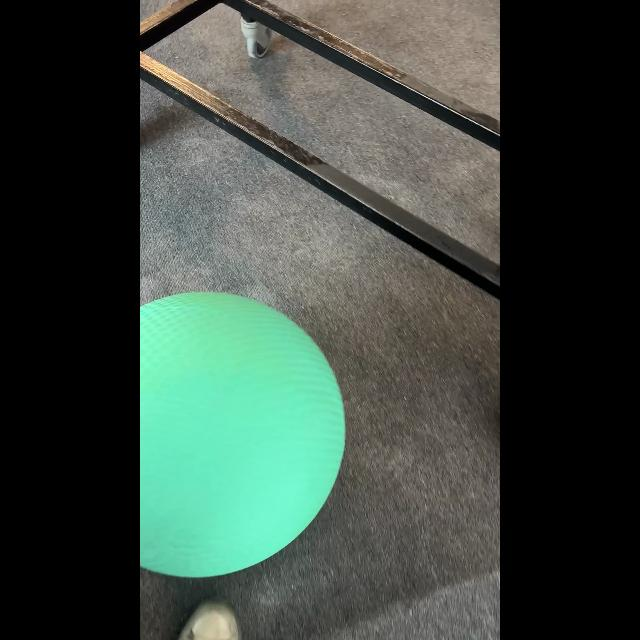ALGAE: (141, 290, 347, 578)
